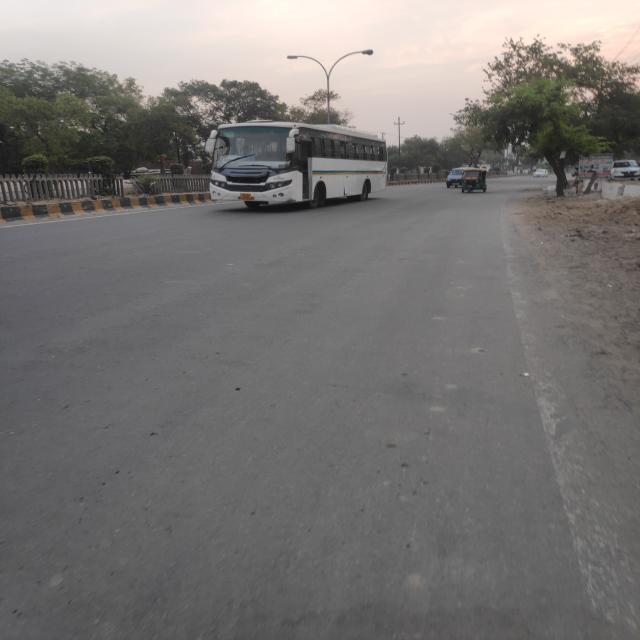Bus: (185, 107, 393, 210)
